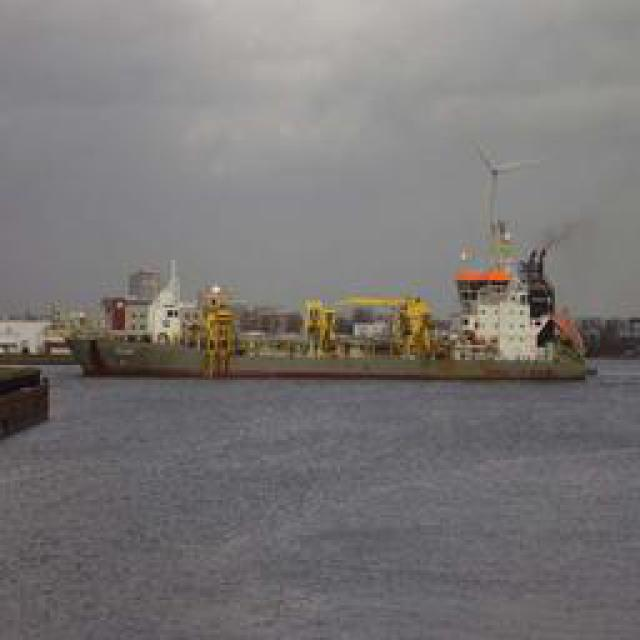Ship: (61, 281, 594, 384)
